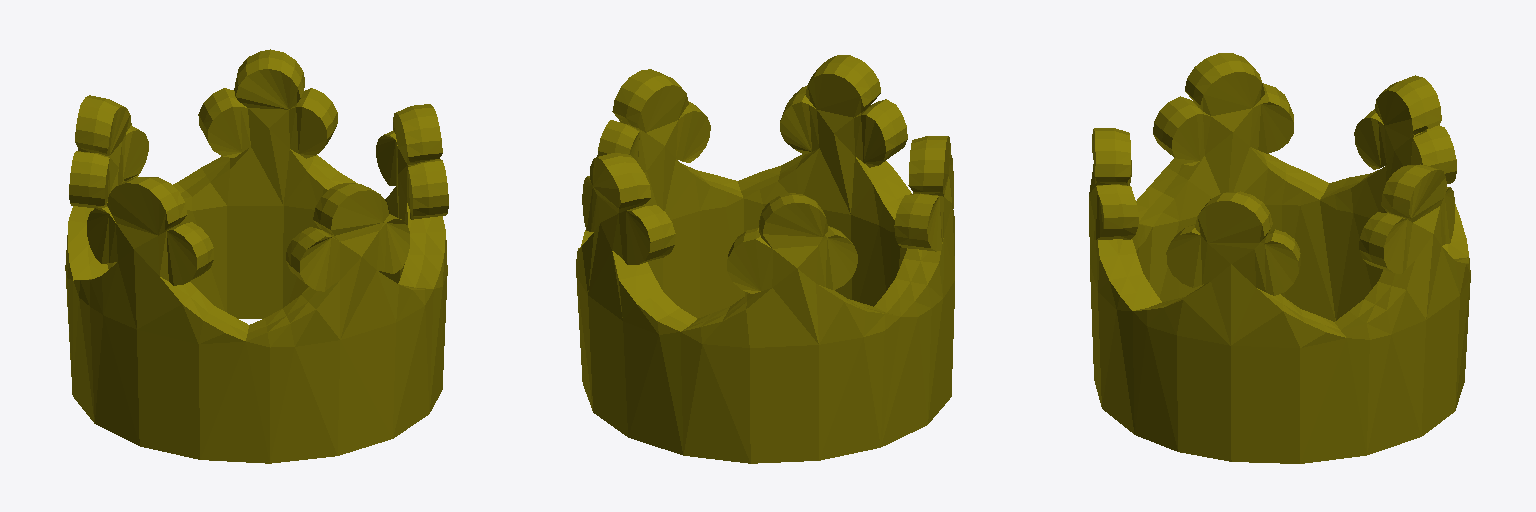
The picture shows the model from 3 angles: view 1: azimuth 30°, elevation 25°; view 2: azimuth 150°, elevation 25°; view 3: azimuth 270°, elevation 25°; orthographic projection.
Visible parts, largest first — view 1: mesh0368; view 2: mesh0368; view 3: mesh0368.
Boxes of the visible parts, x1=… form: mesh0368: x1=65, y1=49, x2=448, y2=463; mesh0368: x1=576, y1=55, x2=954, y2=463; mesh0368: x1=1089, y1=53, x2=1470, y2=463.
Bounding box in the file's own units: 0.2518 × 0.19 × 0.2524.
Materials: 1 (1 with a texture image).